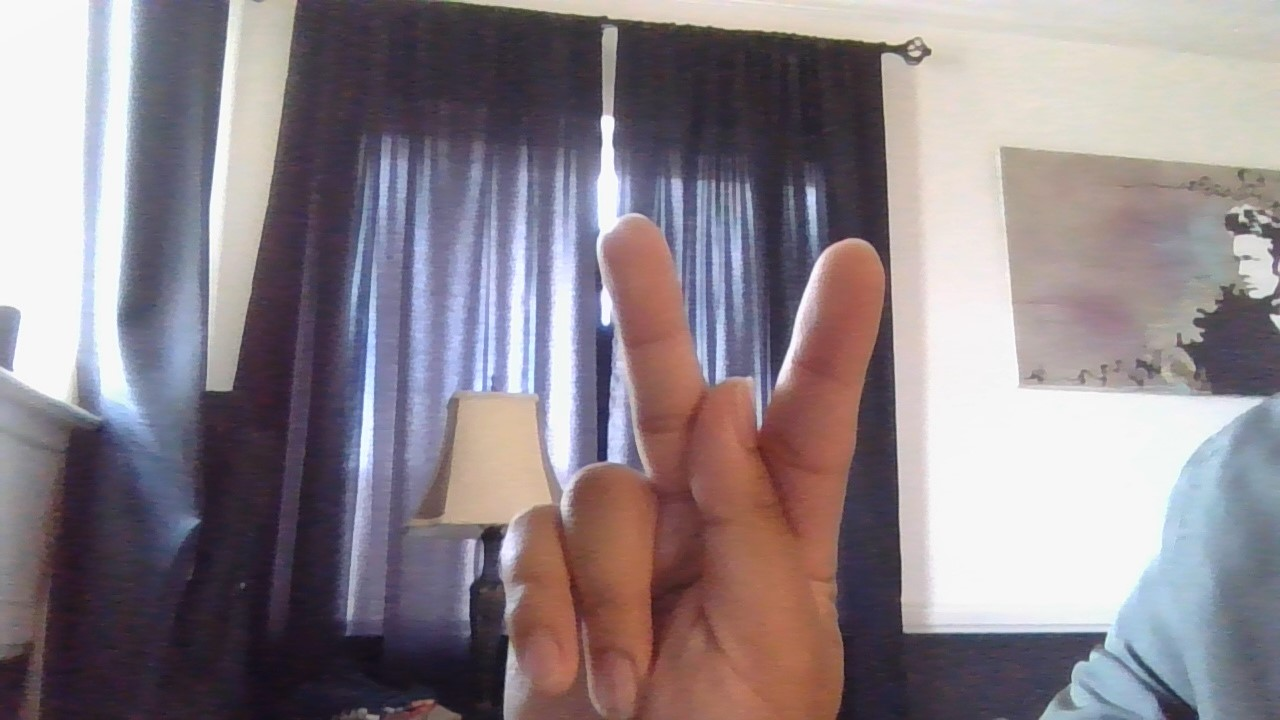k: (459, 193, 925, 720)
